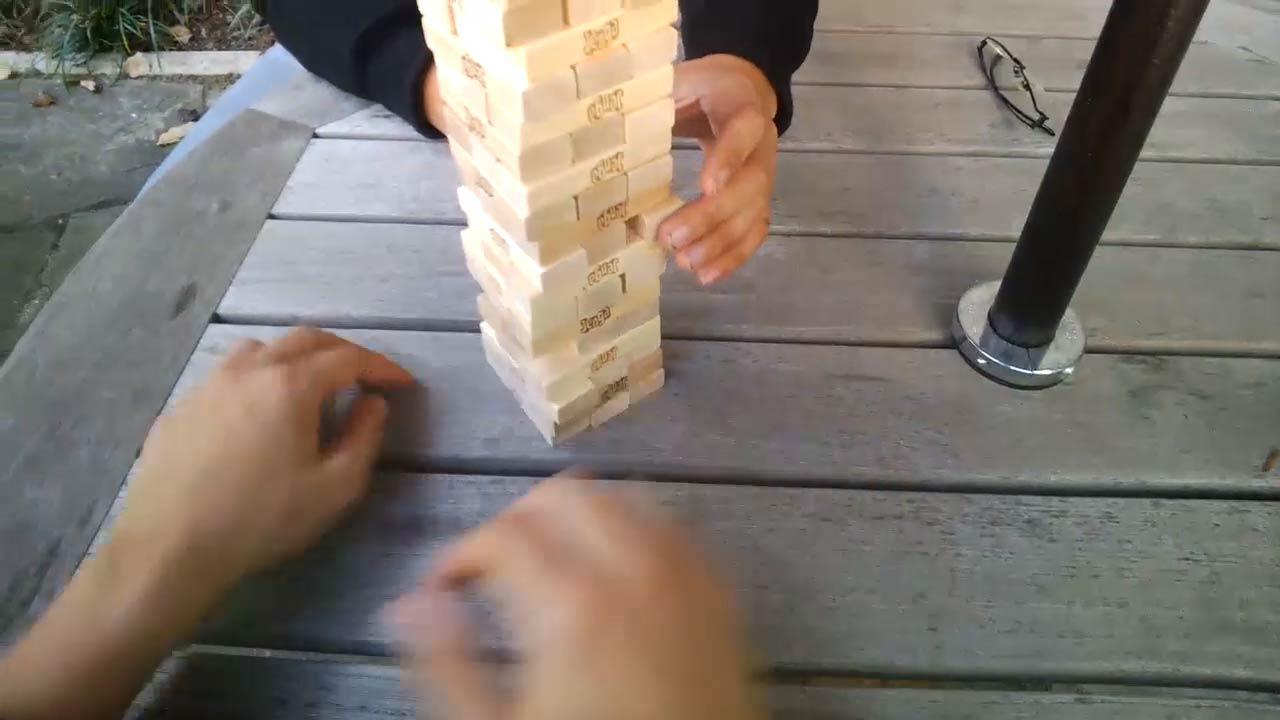hand: (378, 465, 746, 720), (152, 318, 411, 581), (664, 53, 776, 293)
